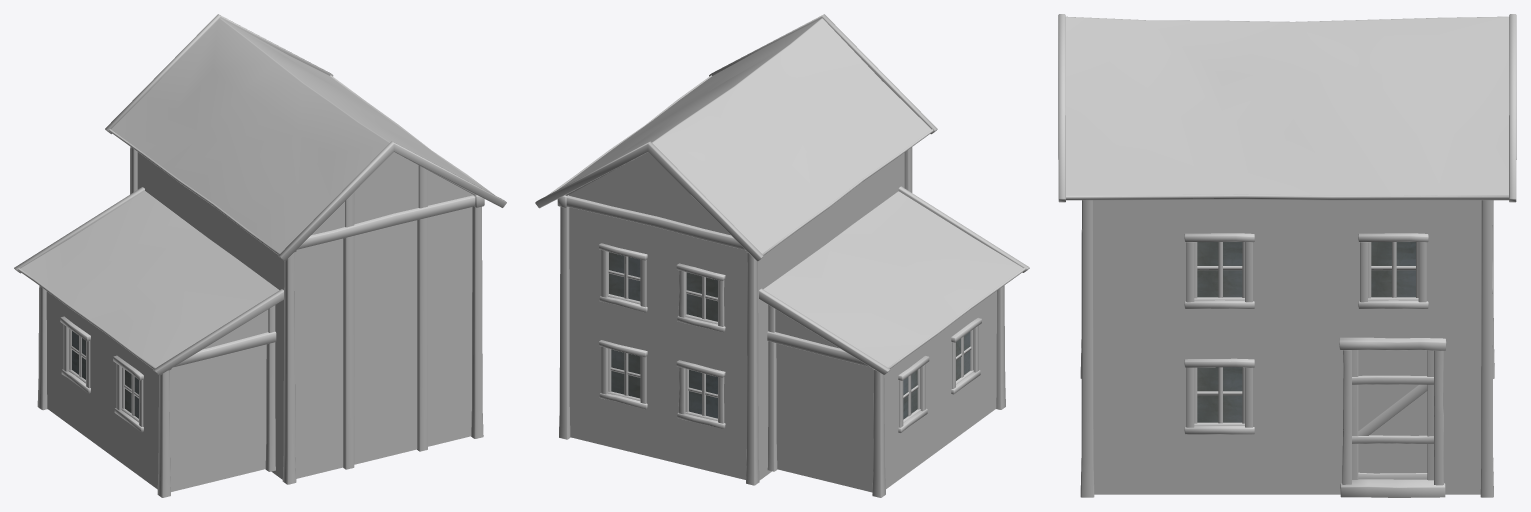
File: House_6.FBX
The picture shows the model from 3 angles, left to right: view 1: azimuth 30°, elevation 25°; view 2: azimuth 150°, elevation 25°; view 3: azimuth 270°, elevation 25°; orthographic projection. The views are drawn at different scales.
Visible parts, largest first — view 1: Mesh; view 2: Mesh; view 3: Mesh.
Part boxes in pixels (<box>): Mesh: <box>14,14,506,497</box>; Mesh: <box>535,14,1029,497</box>; Mesh: <box>1058,14,1516,497</box>.
Size of the model in its own units: 757 by 691 by 708.
